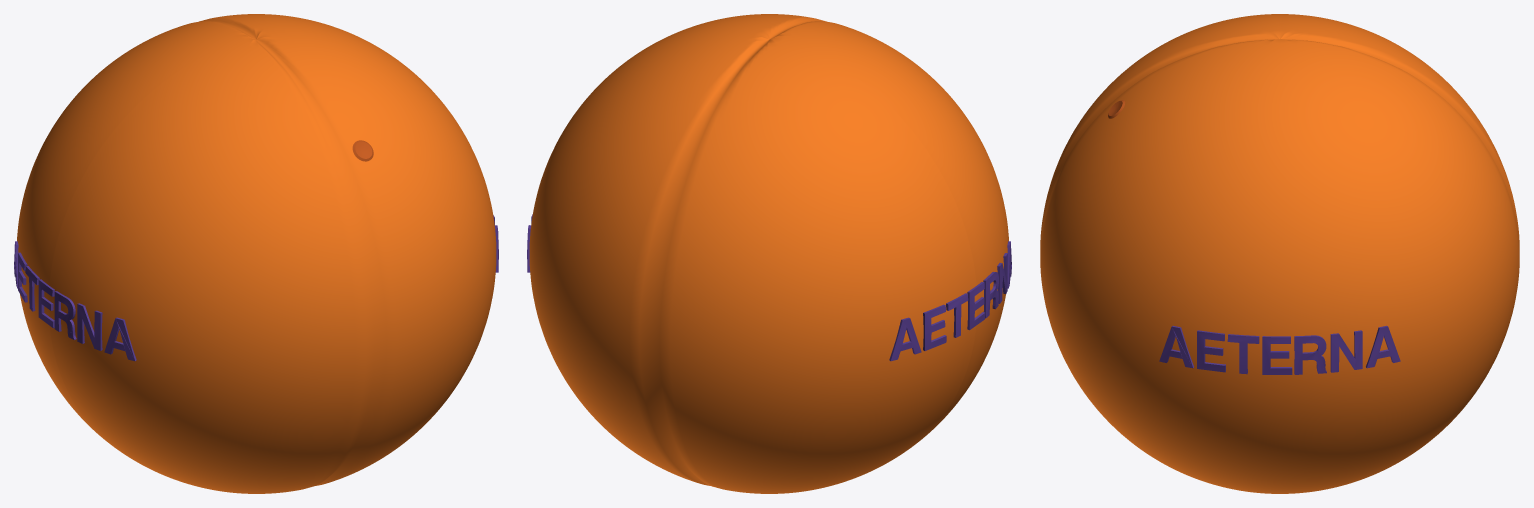
The model's file is dodgeball.glb.
The picture shows the model from 3 angles, left to right: view 1: azimuth 30°, elevation 25°; view 2: azimuth 150°, elevation 25°; view 3: azimuth 270°, elevation 25°; orthographic projection.
Parts seen in each view (by area): view 1: dodgeball_body, dodgeball_print1; view 2: dodgeball_body, dodgeball_print1; view 3: dodgeball_body, dodgeball_print0.
Part boxes in pixels (x1,y1,x2,y2): dodgeball_body: (17, 14, 496, 493); dodgeball_print1: (14, 241, 136, 361); dodgeball_body: (529, 14, 1008, 493); dodgeball_print1: (889, 241, 1011, 361); dodgeball_body: (1040, 14, 1519, 493); dodgeball_print0: (1159, 325, 1400, 374).
Size of the model in its own units: 2.02 by 2 by 2.
